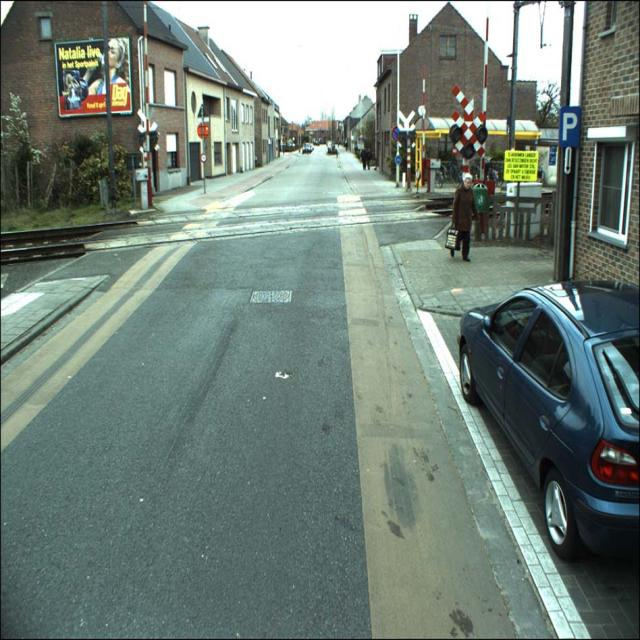park: (560, 109, 582, 146)
parkyasak: (392, 126, 401, 140)
